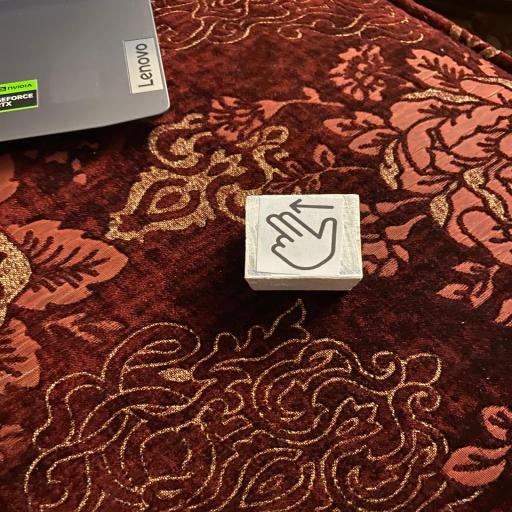LeftSwipe: (244, 193, 364, 290)
